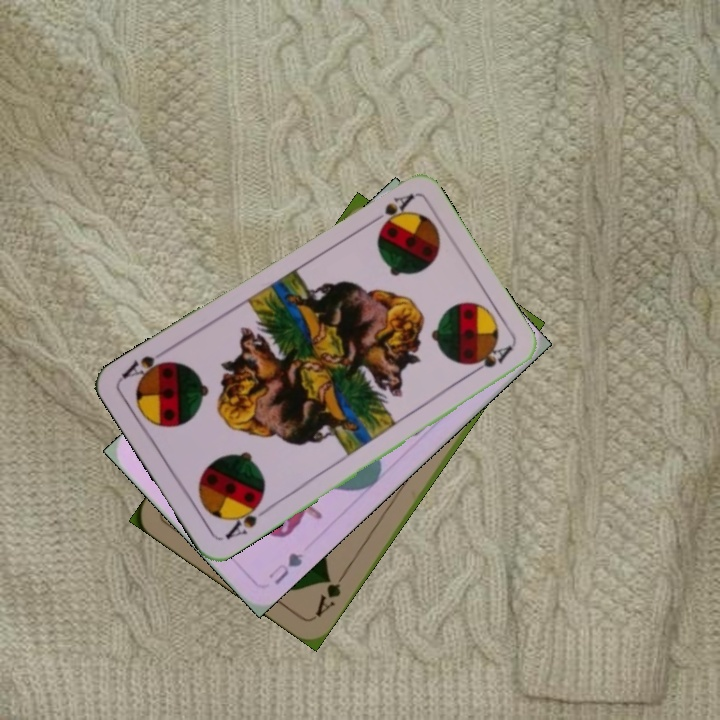GA: (311, 567, 350, 620)
GU: (264, 548, 306, 588)
SA: (220, 495, 272, 542), (363, 189, 416, 230)
